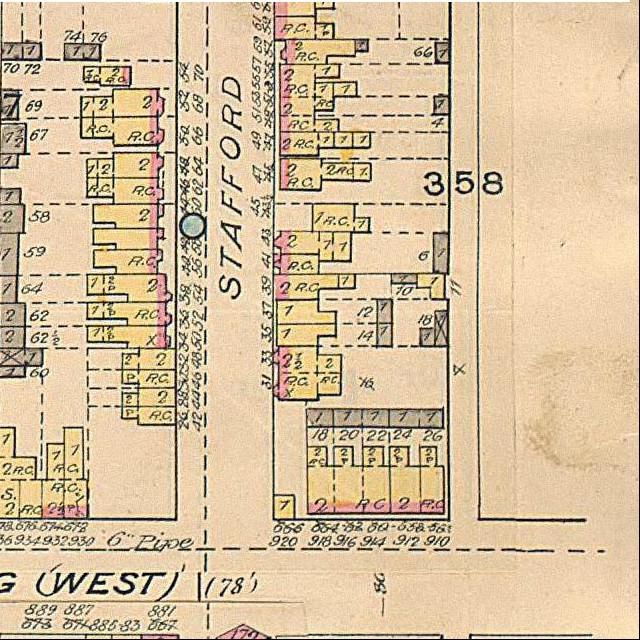building-footprints: (307, 447, 391, 514), (42, 428, 88, 519), (281, 65, 340, 133), (1, 428, 42, 519), (390, 447, 445, 514), (273, 347, 341, 401), (81, 117, 164, 146), (280, 159, 353, 191), (81, 90, 164, 118), (274, 232, 351, 262), (88, 275, 172, 302), (88, 178, 164, 204), (88, 303, 171, 326), (88, 326, 171, 349), (88, 153, 164, 178), (281, 40, 355, 65), (273, 274, 339, 301), (95, 250, 163, 275), (313, 204, 370, 233), (94, 205, 159, 229), (277, 300, 336, 325), (94, 229, 164, 250), (275, 17, 335, 40), (280, 132, 335, 157), (277, 324, 336, 346), (123, 349, 177, 370), (123, 407, 177, 426), (390, 409, 444, 428), (334, 410, 390, 428), (123, 388, 176, 407), (123, 370, 176, 388), (275, 255, 320, 275), (84, 67, 131, 86), (1, 124, 26, 155), (1, 234, 19, 276), (0, 349, 43, 366), (418, 274, 446, 300), (1, 205, 24, 234), (2, 43, 41, 60), (274, 2, 316, 17), (65, 44, 101, 61), (1, 303, 26, 327), (434, 233, 449, 273), (1, 90, 19, 120), (1, 327, 25, 349), (274, 495, 295, 520), (307, 409, 334, 428), (435, 311, 448, 347), (1, 276, 17, 303), (377, 299, 392, 324), (377, 324, 392, 347), (334, 82, 357, 97), (1, 189, 21, 205), (354, 164, 371, 182), (436, 44, 450, 65), (353, 132, 371, 148), (435, 97, 450, 115), (1, 367, 25, 378), (392, 274, 418, 284), (420, 329, 435, 346), (335, 133, 352, 148), (340, 274, 356, 289), (1, 154, 18, 168), (142, 635, 179, 639), (356, 40, 368, 52), (315, 2, 335, 9), (112, 635, 142, 639), (86, 635, 112, 639), (158, 205, 164, 218)
